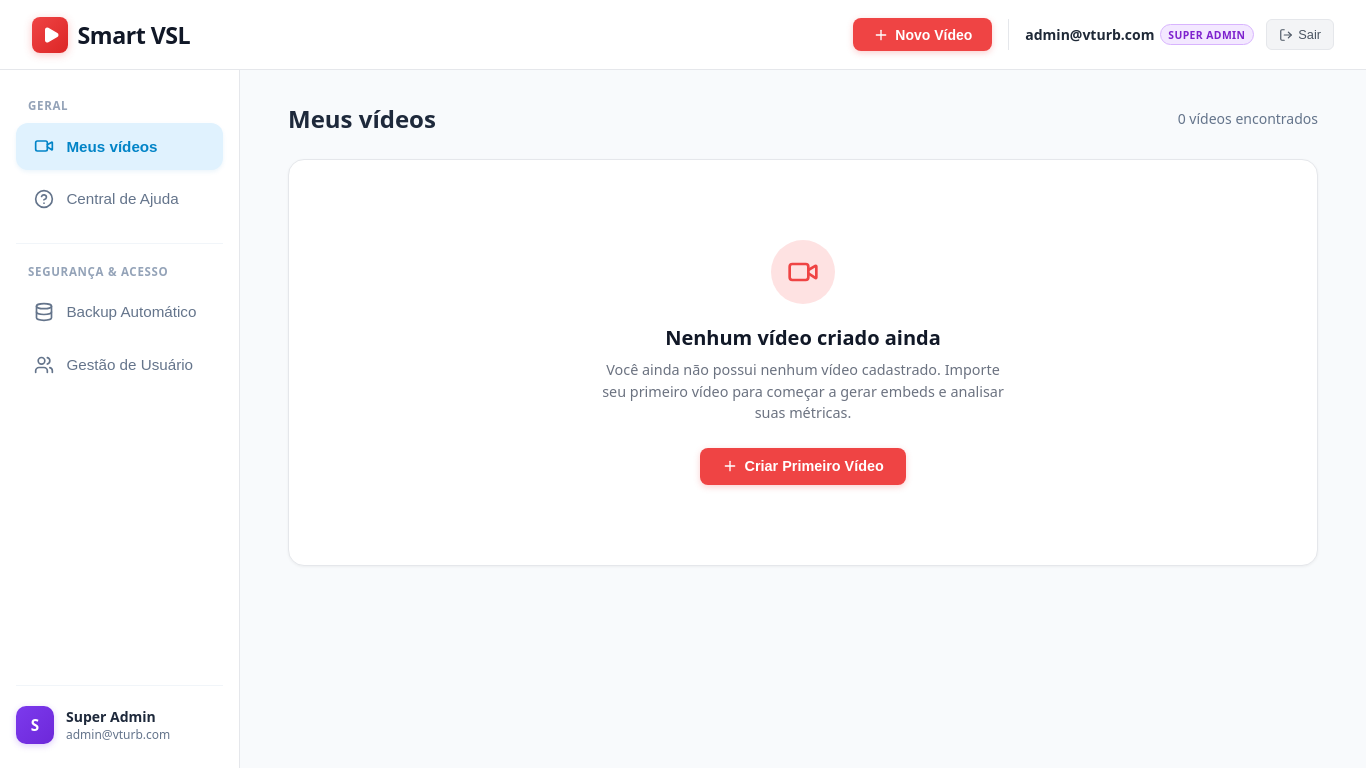
it: App Dashboard VTurb Layout › abre a tela cheia de criação e upload ao clicar em Novo Vídeo
The image size is (1366, 768).
Click the button with test id "btn-novo-video".
click(923, 34)  # box [853,18,992,51]
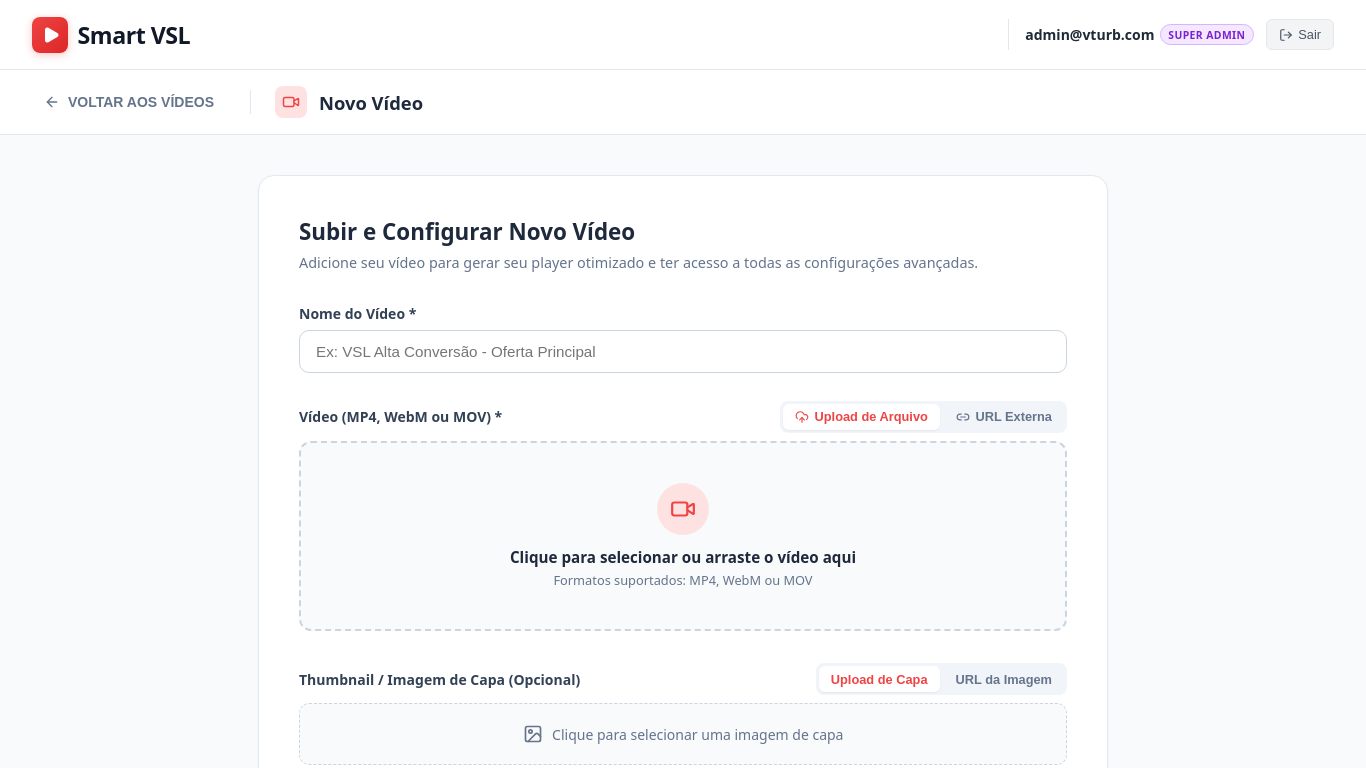
Check: the element with test id "video-create-view" is shown
Check: the heading "Subir e Configurar Novo Vídeo" is shown, box [299,216,635,247]
